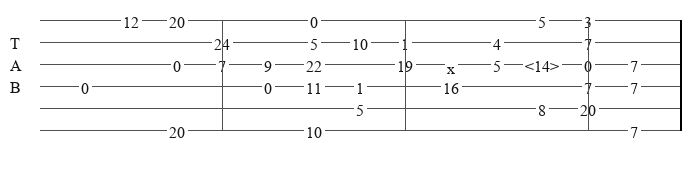0: (81, 79, 93, 94), (173, 57, 185, 72), (264, 79, 276, 94), (310, 13, 322, 28), (584, 57, 596, 72)
1: (356, 79, 368, 94), (401, 35, 413, 50)
10: (306, 123, 326, 138), (352, 35, 372, 50)
11: (306, 79, 326, 94)
12: (123, 13, 143, 28)
16: (443, 79, 463, 94)
19: (397, 57, 417, 72)
20: (169, 13, 189, 28), (169, 123, 189, 138), (580, 101, 600, 116)
22: (306, 57, 326, 72)
24: (214, 35, 234, 50)
3: (584, 13, 596, 28)
4: (493, 35, 505, 50)
5: (310, 35, 322, 50), (356, 101, 368, 116), (493, 57, 505, 72), (538, 13, 550, 28)
7: (218, 57, 230, 72), (584, 35, 596, 50), (584, 79, 596, 94), (630, 57, 642, 72), (630, 123, 642, 138), (630, 79, 642, 94)
8: (538, 101, 550, 116)
9: (264, 57, 276, 72)
harmonic: (525, 57, 563, 72)
x: (447, 59, 459, 70)
